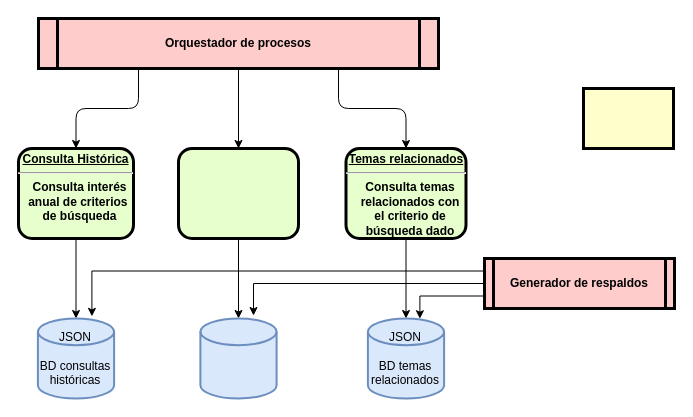
Some shapes in this 693 by 417 pixel diagram are drawn without their labels. The shapes that lost their labels are listed below. From the top down, each one's centre as x and y in pixels, then its label:
At [628,118]: "Vendors".
At [238,193]: "Consulta Región Consulta interés por región de criterios de búsqueda".
At [238,358]: "JSON BD consultas por región".
